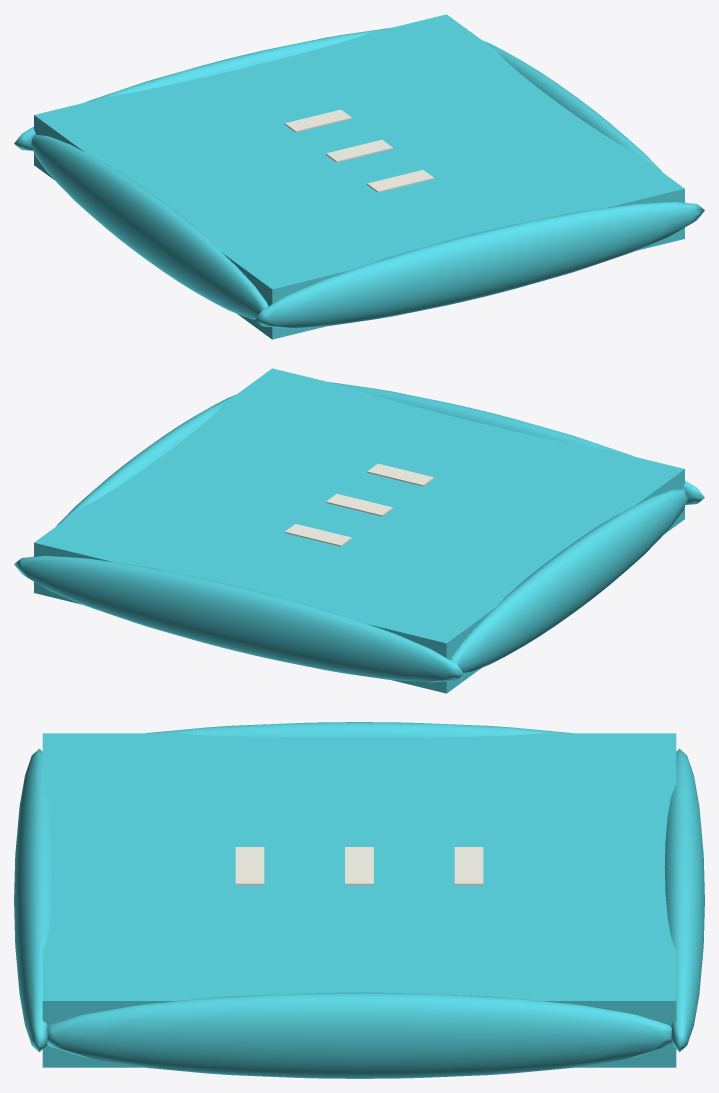
The model's file is course_pad.glb.
The picture shows the model from 3 angles, top to bottom: view 1: azimuth 30°, elevation 25°; view 2: azimuth 150°, elevation 25°; view 3: azimuth 270°, elevation 25°; orthographic projection. The views are drawn at different scales.
Parts seen in each view (by area): view 1: flat inflatable deck, seamed rim (×4), route stripe (×3); view 2: flat inflatable deck, seamed rim (×4), route stripe (×3); view 3: flat inflatable deck, seamed rim (×4), route stripe (×3).
Part boxes in pixels (x1,y1,x2,y2): flat inflatable deck: (34, 14, 684, 339); seamed rim (×4): (14, 28, 704, 328); route stripe (×3): (284, 109, 434, 192); flat inflatable deck: (34, 368, 684, 693); seamed rim (×4): (14, 382, 704, 682); route stripe (×3): (284, 463, 434, 546); flat inflatable deck: (42, 733, 676, 1067); seamed rim (×4): (14, 722, 704, 1078); route stripe (×3): (235, 847, 483, 885).
Bounding box in the file's own units: 6 × 0.8 × 6.
